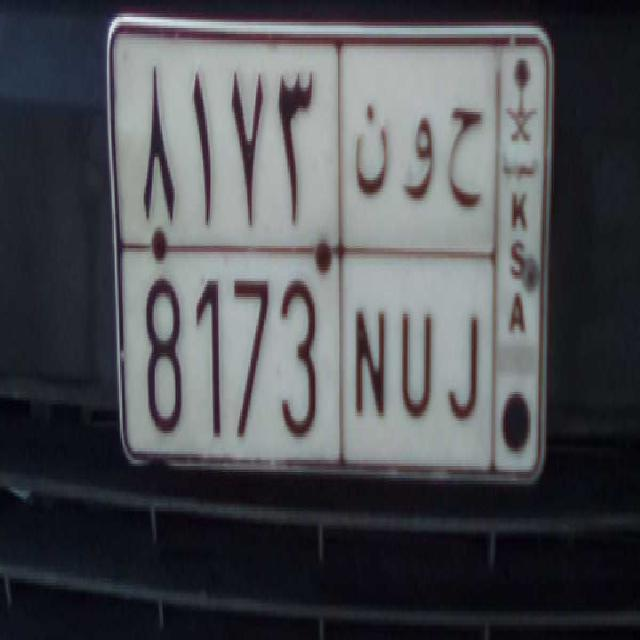license_plate: (119, 242, 496, 470)
